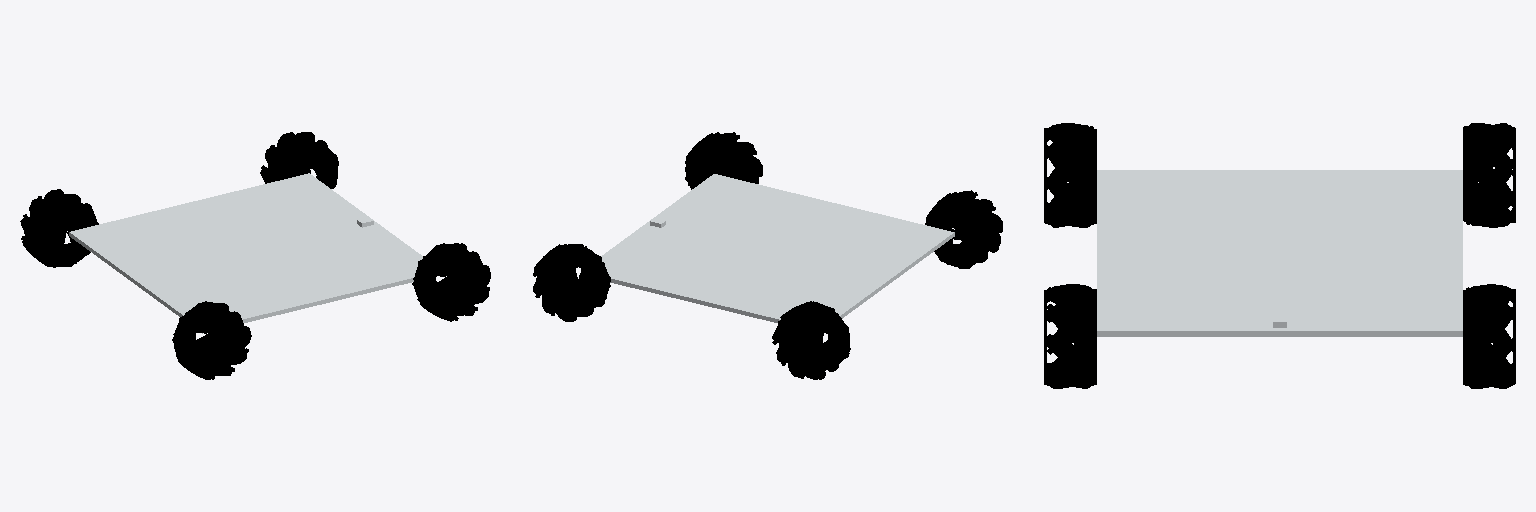
robot.urdf — mecanum_robot_description:
<?xml version="1.0" encoding="utf-8"?>
<!-- This URDF was automatically created by SolidWorks to URDF Exporter! Originally created by [author] ([email redacted]) 
     Commit Version: 1.6.0-4-g7f85cfe  Build Version: 1.6.7995.38578
     For more information, please see http://wiki.ros.org/sw_urdf_exporter -->
<robot
  name="mecanum_robot_description">
  <link
    name="base_link">
    <inertial>
      <origin
        xyz="0.00017664 -1.3315E-17 0.0018814"
        rpy="0 0 0" />
      <mass
        value="0.4974" />
      <inertia
        ixx="0.0019491"
        ixy="-5.6199E-19"
        ixz="-3.2892E-07"
        iyy="0.0021231"
        iyz="-5.0909E-21"
        izz="0.004071" />
    </inertial>
    <visual>
      <origin
        xyz="0 0 0"
        rpy="0 0 0" />
      <geometry>
        <mesh
          filename="package://asabe_robot_description/meshes/mecanum_base_link.STL" />
      </geometry>
      <material
        name="">
        <color
          rgba="0.89804 0.91765 0.92941 1" />
      </material>
    </visual>
    <collision>
      <origin
        xyz="0 0 0"
        rpy="0 0 0" />
      <geometry>
        <mesh
          filename="package://asabe_robot_description/meshes/mecanum_base_link.STL" />
      </geometry>
    </collision>
  </link>
  <link
    name="Link_wheel1">
    <inertial>
      <origin
        xyz="-3.9606E-07 3.4085E-11 0.015498"
        rpy="0 0 0" />
      <mass
        value="0.02942" />
      <inertia
        ixx="2.2418E-06"
        ixy="8.3265E-16"
        ixz="1.1018E-14"
        iyy="2.2389E-06"
        iyz="-5.937E-11"
        izz="2.9693E-06" />
    </inertial>
    <visual>
      <origin
        xyz="0 0 0"
        rpy="0 0 0" />
      <geometry>
        <mesh
          filename="package://asabe_robot_description/meshes/Link_mecanum_wheel1.STL" />
      </geometry>
      <material
        name="">
        <color
          rgba="0 0 0 1" />
      </material>
    </visual>
    <collision>
      <origin
        xyz="0 0 0"
        rpy="0 0 0" />
      <geometry>
        <mesh
          filename="package://asabe_robot_description/meshes/Link_mecanum_wheel1.STL" />
      </geometry>
    </collision>
  </link>
  <joint
    name="Joint_wheel1"
    type="continuous">
    <origin
      xyz="0.11289 -0.1085 4.3582E-05"
      rpy="-1.5708 1.2025 3.1416" />
    <parent
      link="base_link" />
    <child
      link="Link_wheel1" />
    <axis
      xyz="0 0 -1" />
  </joint>
  <link
    name="Link_wheel2">
    <inertial>
      <origin
        xyz="-3.9604E-07 -4.4486E-11 0.015498"
        rpy="0 0 0" />
      <mass
        value="0.02942" />
      <inertia
        ixx="2.2418E-06"
        ixy="3.4139E-16"
        ixz="1.4464E-14"
        iyy="2.2389E-06"
        iyz="-5.9363E-11"
        izz="2.9693E-06" />
    </inertial>
    <visual>
      <origin
        xyz="0 0 0"
        rpy="0 0 0" />
      <geometry>
        <mesh
          filename="package://asabe_robot_description/meshes/Link_mecanum_wheel2.STL" />
      </geometry>
      <material
        name="">
        <color
          rgba="0 0 0 1" />
      </material>
    </visual>
    <collision>
      <origin
        xyz="0 0 0"
        rpy="0 0 0" />
      <geometry>
        <mesh
          filename="package://asabe_robot_description/meshes/Link_mecanum_wheel2.STL" />
      </geometry>
    </collision>
  </link>
  <joint
    name="Joint_wheel2"
    type="continuous">
    <origin
      xyz="0.113 0.1085 0"
      rpy="1.5708 1.2025 -3.1416" />
    <parent
      link="base_link" />
    <child
      link="Link_wheel2" />
    <axis
      xyz="0 0 -1" />
  </joint>
  <link
    name="Link_wheel3">
    <inertial>
      <origin
        xyz="-3.9604E-07 -4.4486E-11 0.015498"
        rpy="0 0 0" />
      <mass
        value="0.02942" />
      <inertia
        ixx="2.2418E-06"
        ixy="3.4139E-16"
        ixz="1.4464E-14"
        iyy="2.2389E-06"
        iyz="-5.9363E-11"
        izz="2.9693E-06" />
    </inertial>
    <visual>
      <origin
        xyz="0 0 0"
        rpy="0 0 0" />
      <geometry>
        <mesh
          filename="package://asabe_robot_description/meshes/Link_mecanum_wheel3.STL" />
      </geometry>
      <material
        name="">
        <color
          rgba="0 0 0 1" />
      </material>
    </visual>
    <collision>
      <origin
        xyz="0 0 0"
        rpy="0 0 0" />
      <geometry>
        <mesh
          filename="package://asabe_robot_description/meshes/Link_mecanum_wheel3.STL" />
      </geometry>
    </collision>
  </link>
  <joint
    name="Joint_wheel3"
    type="continuous">
    <origin
      xyz="-0.113 0.13949 0"
      rpy="1.5708 1.2025 0" />
    <parent
      link="base_link" />
    <child
      link="Link_wheel3" />
    <axis
      xyz="0 0 -1" />
  </joint>
  <link
    name="Link_wheel4">
    <inertial>
      <origin
        xyz="-3.9604E-07 -4.4486E-11 0.015498"
        rpy="0 0 0" />
      <mass
        value="0.02942" />
      <inertia
        ixx="2.2418E-06"
        ixy="3.4139E-16"
        ixz="1.4464E-14"
        iyy="2.2389E-06"
        iyz="-5.9363E-11"
        izz="2.9693E-06" />
    </inertial>
    <visual>
      <origin
        xyz="0 0 0"
        rpy="0 0 0" />
      <geometry>
        <mesh
          filename="package://asabe_robot_description/meshes/Link_mecanum_wheel4.STL" />
      </geometry>
      <material
        name="">
        <color
          rgba="0 0 0 1" />
      </material>
    </visual>
    <collision>
      <origin
        xyz="0 0 0"
        rpy="0 0 0" />
      <geometry>
        <mesh
          filename="package://asabe_robot_description/meshes/Link_mecanum_wheel4.STL" />
      </geometry>
    </collision>
  </link>
  <joint
    name="Joint_wheel4"
    type="continuous">
    <origin
      xyz="-0.113 -0.1085 0"
      rpy="1.5708 1.2025 0" />
    <parent
      link="base_link" />
    <child
      link="Link_wheel4" />
    <axis
      xyz="0 0 -1" />
  </joint>

  <link
    name="Link_lidar">
  </link>
  <joint
    name="Joint_lidar"
    type="fixed">
    <origin
      xyz="0.113 0 -0.01"
      rpy="3.1415926 0 0" />
    <parent
      link="base_link" />
    <child
      link="Link_lidar" />
    <axis
      xyz="0 0 0" />
  </joint>

  <ros2_control name="mecanum_control" type="system">
    <hardware>
      <plugin>mecanum_hardware/MecanumHardware</plugin>
      <param name="usb_port">/dev/ttyACM0</param>
      <param name="baud_rate">115200</param>
    </hardware>

    <joint name="Joint_wheel1">
      <command_interface name="velocity"/>
      <state_interface name="velocity"/>
    </joint>

    <joint name="Joint_wheel2">
      <command_interface name="velocity"/>
      <state_interface name="velocity"/>
    </joint>

    <joint name="Joint_wheel3">
      <command_interface name="velocity"/>
      <state_interface name="velocity"/>
    </joint>

    <joint name="Joint_wheel4">
      <command_interface name="velocity"/>
      <state_interface name="velocity"/>
    </joint>

  </ros2_control>

</robot>

--- What the picture shows (computed from the rendered views, not written in the file) ---
3 views of the same robot in one strip: view 1: azimuth 30°, elevation 25°; view 2: azimuth 150°, elevation 25°; view 3: azimuth 270°, elevation 25° (orthographic).
Model mecanum_robot_description with 6 links and 5 joints (4 continuous, 1 fixed), rooted at base_link, posed all joints at 0.
Visible links, largest first — view 1: base_link, Link_wheel4, Link_wheel1, Link_wheel3, Link_wheel2; view 2: base_link, Link_wheel2, Link_wheel3, Link_wheel4, Link_wheel1; view 3: base_link, Link_wheel3, Link_wheel2, Link_wheel4, Link_wheel1.
Boxes of the visible links, x1=… form: base_link: x1=69, y1=173, x2=422, y2=333; Link_wheel4: x1=172, y1=301, x2=251, y2=379; Link_wheel1: x1=412, y1=243, x2=490, y2=321; Link_wheel3: x1=20, y1=189, x2=98, y2=267; Link_wheel2: x1=260, y1=132, x2=338, y2=188; base_link: x1=601, y1=174, x2=954, y2=322; Link_wheel2: x1=533, y1=244, x2=610, y2=321; Link_wheel3: x1=772, y1=301, x2=850, y2=379; Link_wheel4: x1=925, y1=190, x2=1002, y2=268; Link_wheel1: x1=685, y1=132, x2=762, y2=189; base_link: x1=1097, y1=170, x2=1462, y2=336; Link_wheel3: x1=1463, y1=123, x2=1515, y2=227; Link_wheel2: x1=1463, y1=284, x2=1515, y2=388; Link_wheel4: x1=1044, y1=123, x2=1096, y2=227; Link_wheel1: x1=1044, y1=284, x2=1096, y2=388.
Bounding box of the posed robot: 0.288 × 0.279 × 0.0622 m (x, y, z).
Meshes: 5 distinct files referenced, 5 mesh visuals loaded (5 binary STL).